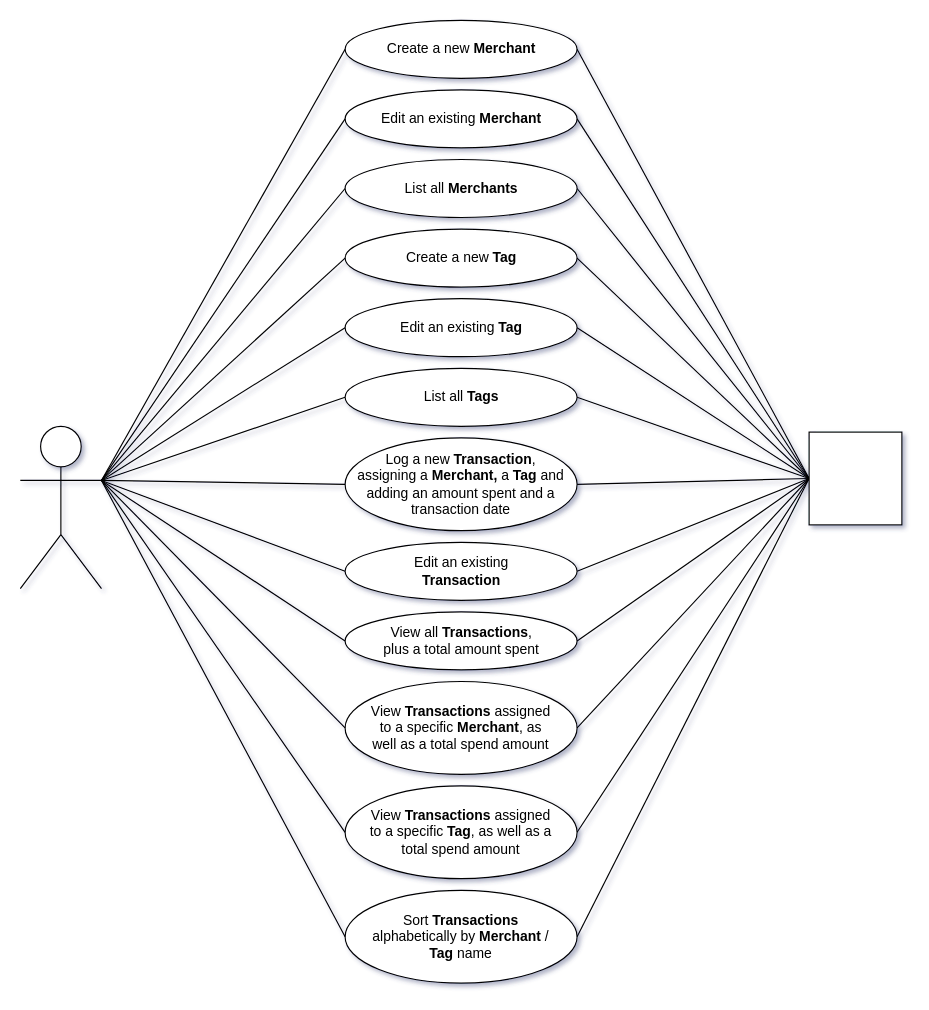
Image size: 929x1010. Some labels were removed from this diagram. Each missing label, with the centre of its shape:
Billy: [60,507]
Spending Tracker App: [855,478]
